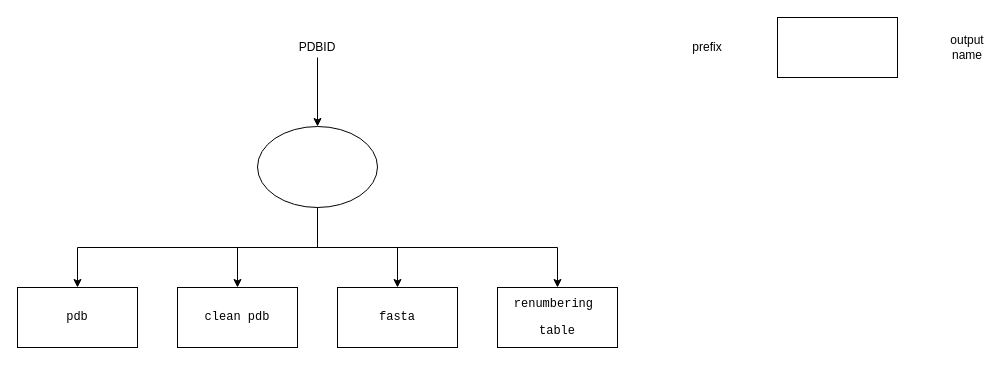
The diagram is 1005 pixels wide and 367 high, and some of its shapes have lost their labels. The box of each missing label's shape, as (x1, y1, x2, y2) in pixels:
make_renum.py: (256, 126, 378, 208)
mutlist: (776, 16, 898, 78)
